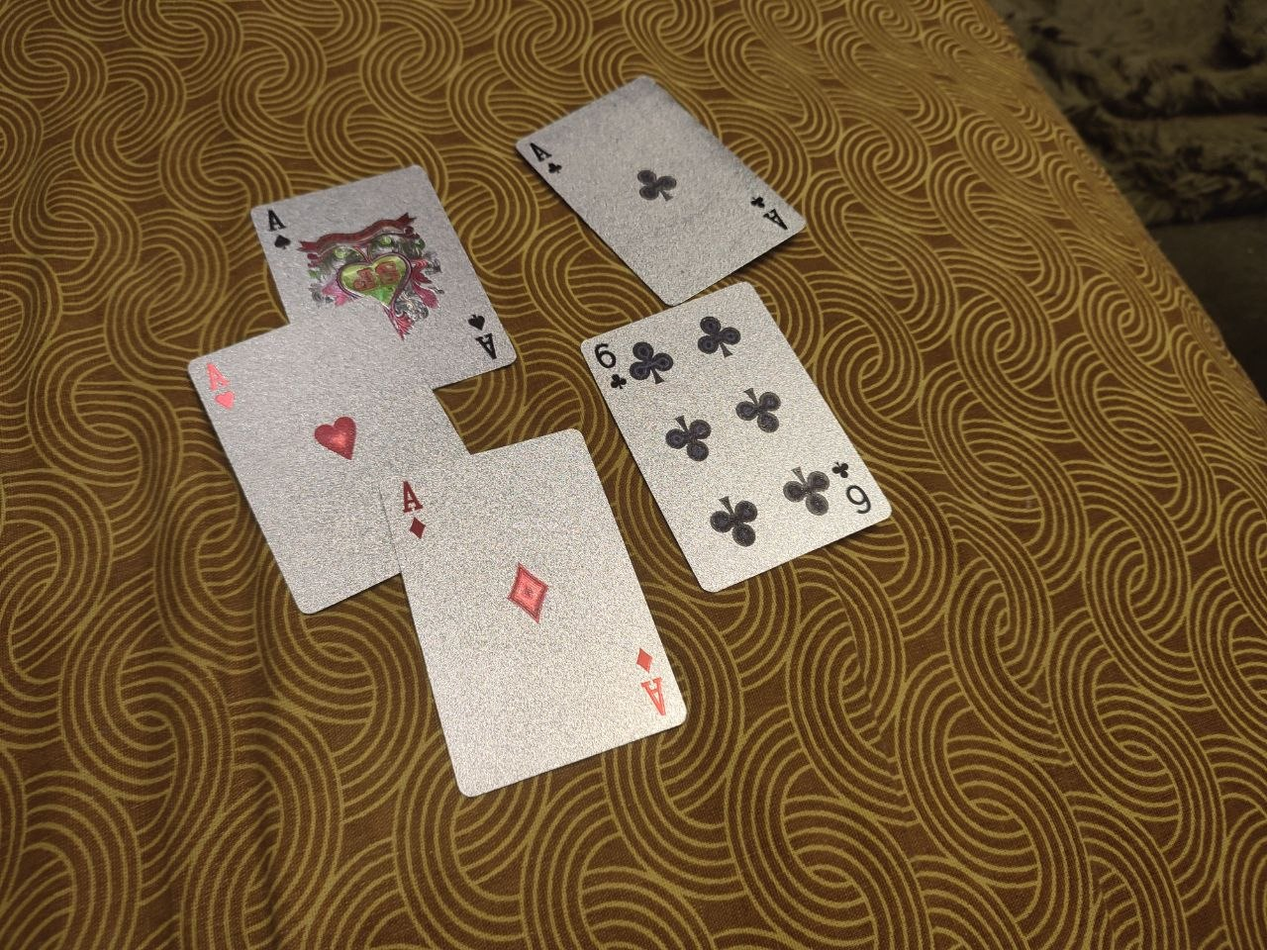6C: (580, 280, 894, 594)
AC: (515, 71, 810, 308)
AD: (379, 427, 691, 798)
AH: (187, 293, 471, 613)
AS: (249, 163, 518, 391)
